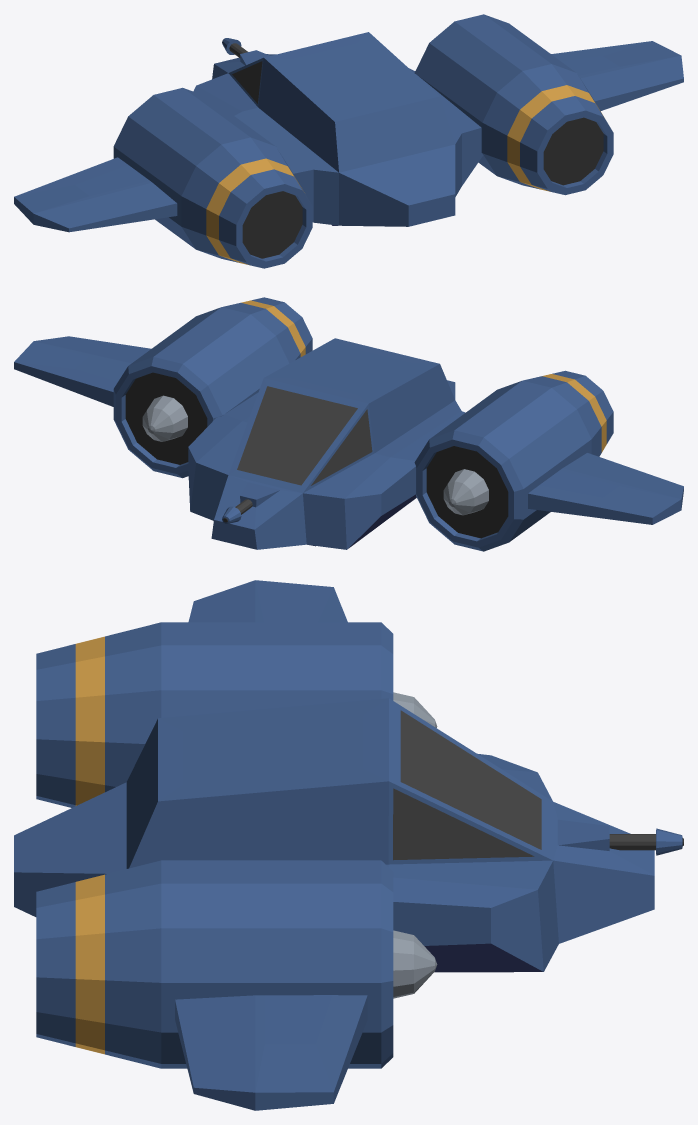
File: players_sapceship_ver3.fbx
3 renders of one model, top to bottom at view 1: azimuth 30°, elevation 25°; view 2: azimuth 150°, elevation 25°; view 3: azimuth 270°, elevation 25°, orthographic. The views are drawn at different scales.
Visible parts, largest first — view 1: Cube; view 2: Cube; view 3: Cube.
Part boxes in pixels (<box>): Cube: <box>14,14,683,268</box>; Cube: <box>14,297,683,551</box>; Cube: <box>14,580,683,1110</box>.
Size of the model in its own units: 711 by 128 by 393.
